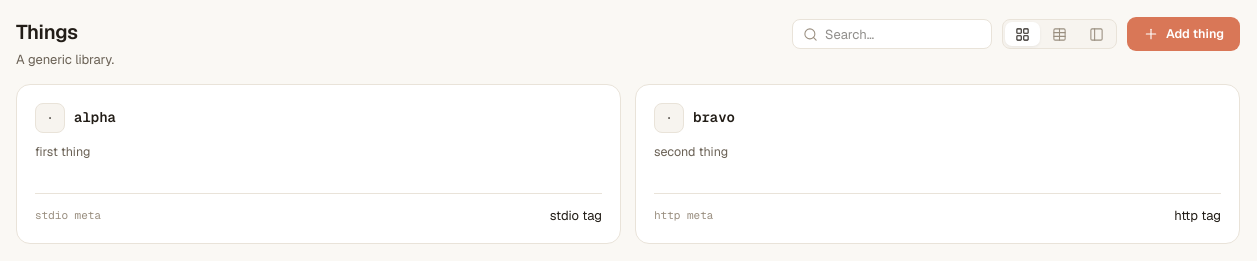
Test: Collection › filters items by the search query
In the field: (903, 34) [825,26,981,42], type "alpha"
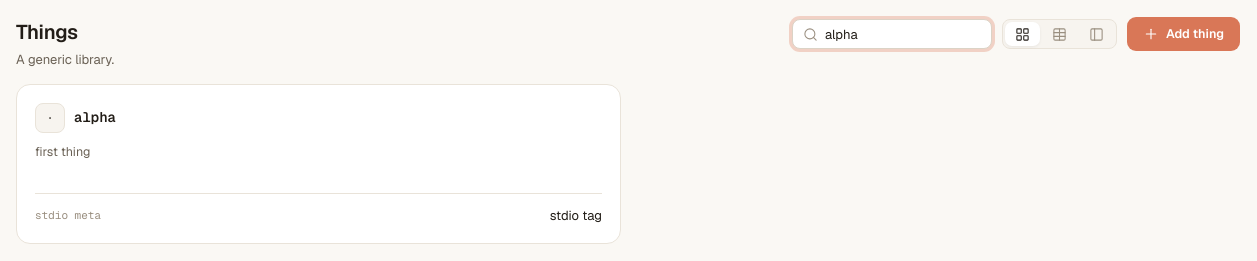
Expected: the text "alpha" is shown, [74,107,116,128]
Result: the text "bravo" is gone
Result: the text "second thing" is gone
